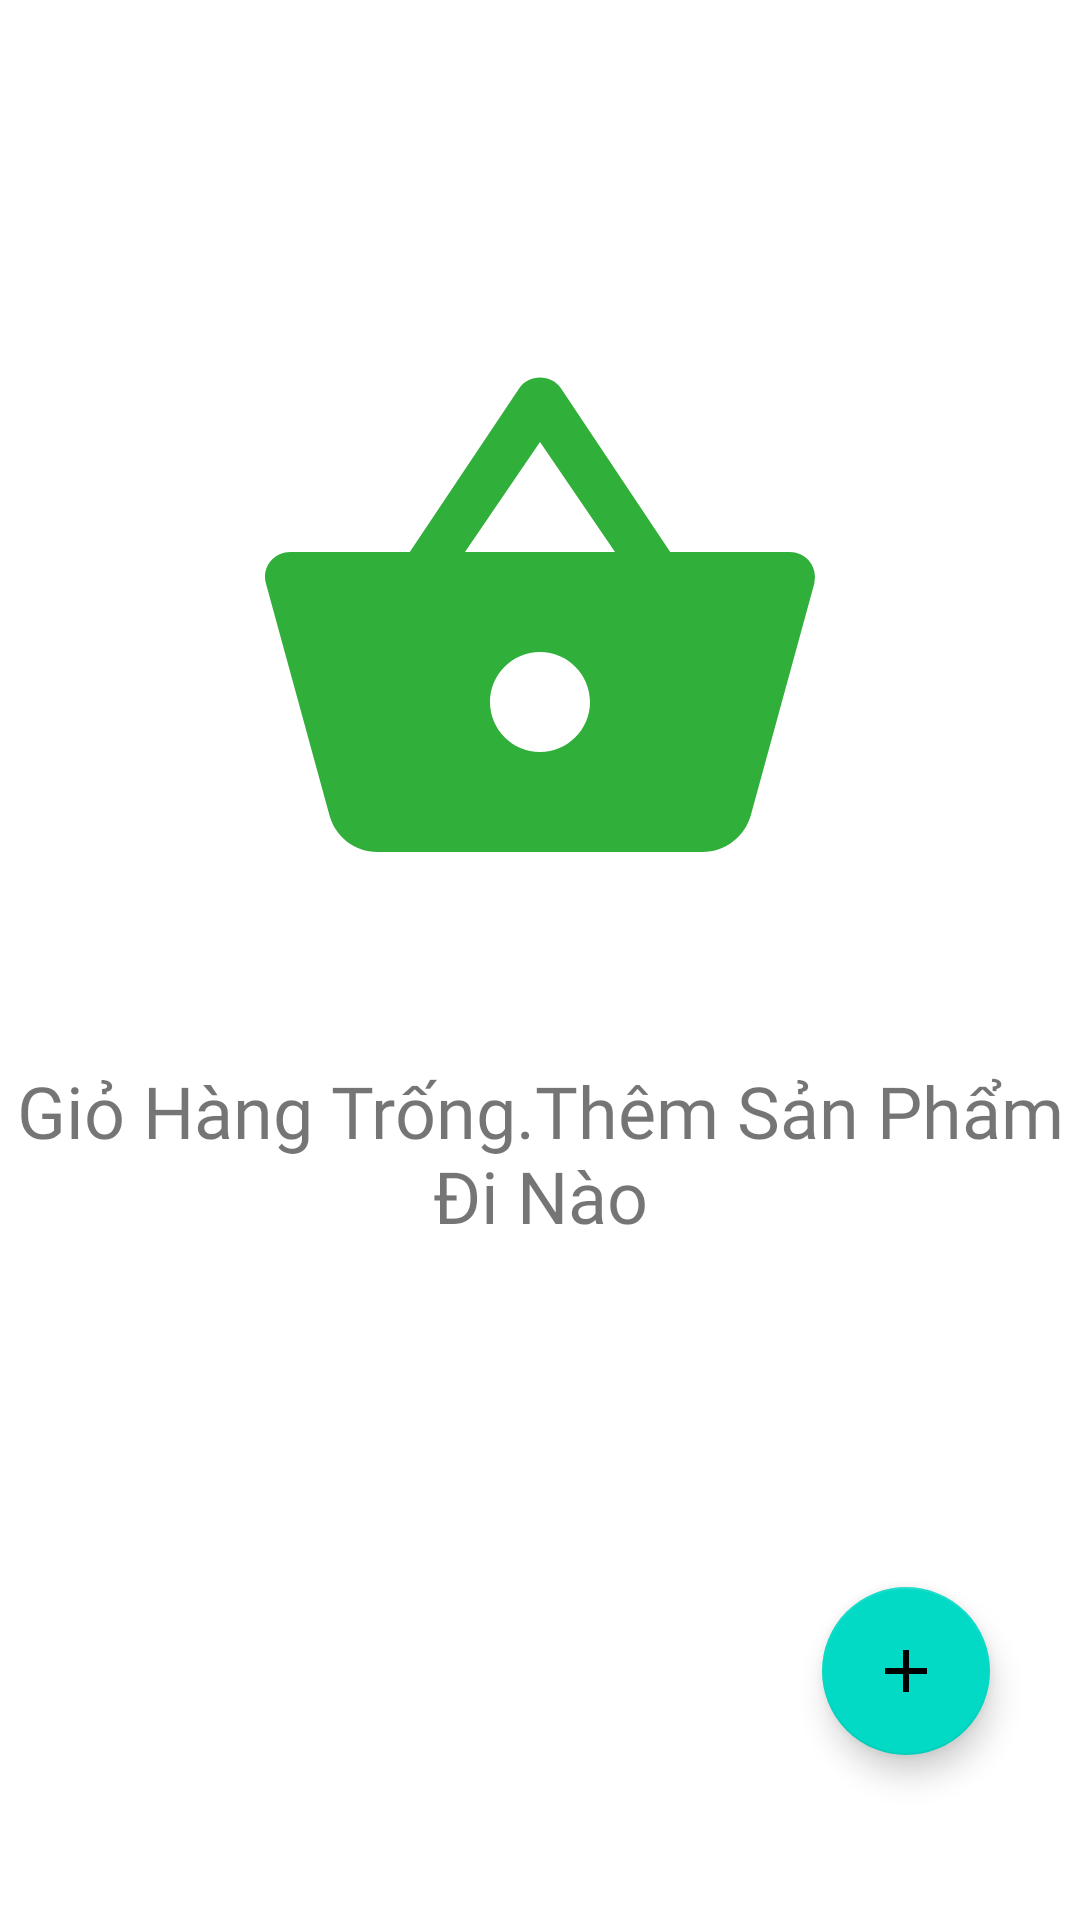

Where icons sit on this 1080 x 1920 app screen, as (x1, y1, x2, y2):
Add Order Details: (822, 1587, 990, 1755)
